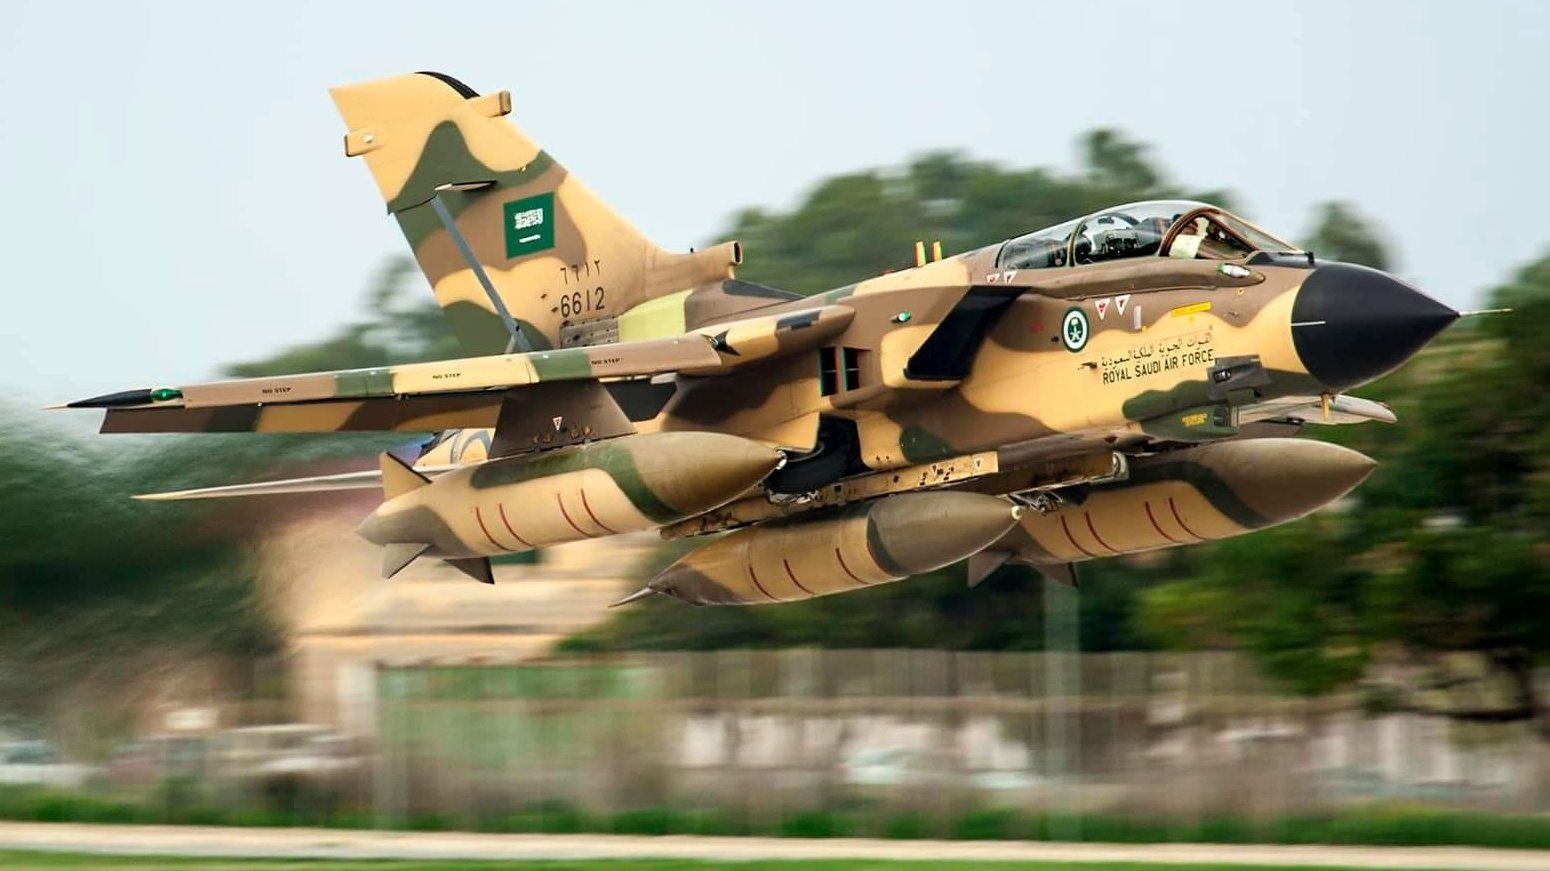Tornado: (39, 70, 1514, 609)
